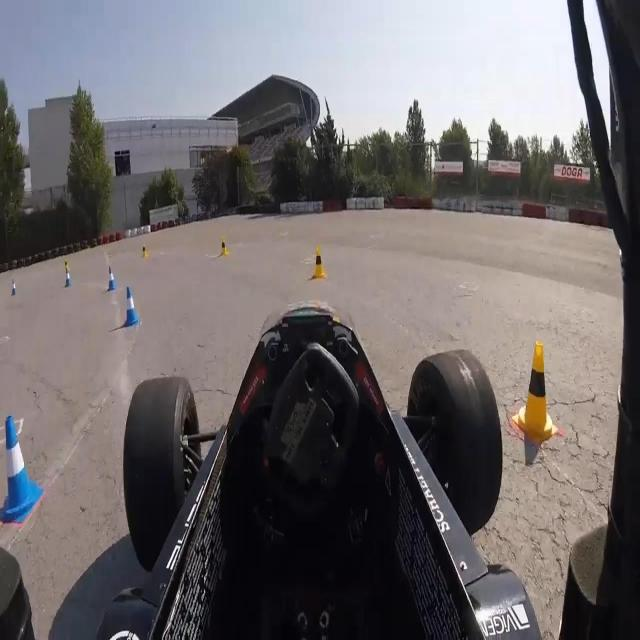blue_cone: (0, 414, 43, 524), (122, 286, 140, 332), (107, 266, 116, 293), (64, 269, 73, 288), (10, 279, 18, 298)
yellow_cone: (513, 346, 557, 440), (312, 248, 325, 282), (220, 236, 229, 258), (141, 243, 148, 260), (64, 258, 69, 273)
